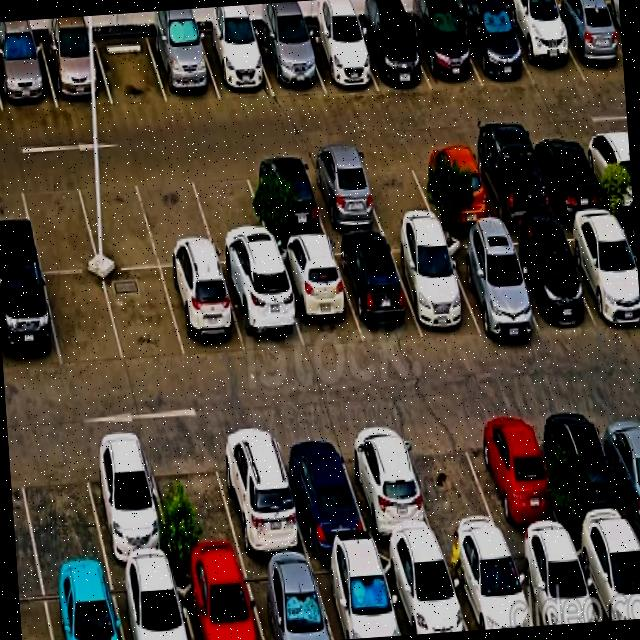empty: (397, 416, 505, 548), (145, 437, 243, 566), (15, 441, 107, 575), (188, 161, 273, 263), (75, 170, 159, 270), (135, 167, 217, 267), (18, 173, 98, 272), (103, 268, 185, 363), (43, 272, 123, 367), (354, 150, 436, 229), (94, 33, 167, 104)
occupied: (464, 410, 566, 541), (210, 426, 308, 560), (336, 421, 438, 546), (273, 428, 371, 555), (539, 405, 634, 536), (80, 438, 174, 568), (497, 227, 593, 330), (443, 231, 538, 335), (274, 241, 362, 350), (331, 237, 422, 342), (387, 235, 480, 335), (557, 216, 640, 323), (507, 539, 599, 626), (442, 544, 534, 630), (310, 553, 400, 640), (161, 265, 245, 358), (219, 262, 304, 353), (378, 551, 467, 635), (241, 560, 333, 640), (467, 140, 554, 224), (244, 157, 327, 242), (174, 563, 262, 640), (302, 153, 384, 235), (502, 8, 585, 87), (527, 133, 607, 214), (411, 145, 495, 222), (571, 530, 640, 621), (0, 270, 61, 372), (406, 11, 482, 90), (110, 567, 192, 640), (456, 11, 534, 87), (593, 403, 640, 529), (41, 571, 123, 640), (353, 18, 430, 91), (549, 7, 624, 81), (146, 31, 220, 102), (198, 31, 274, 100), (40, 36, 112, 108), (302, 25, 377, 92), (254, 28, 324, 96), (579, 130, 633, 207), (0, 40, 57, 112)
